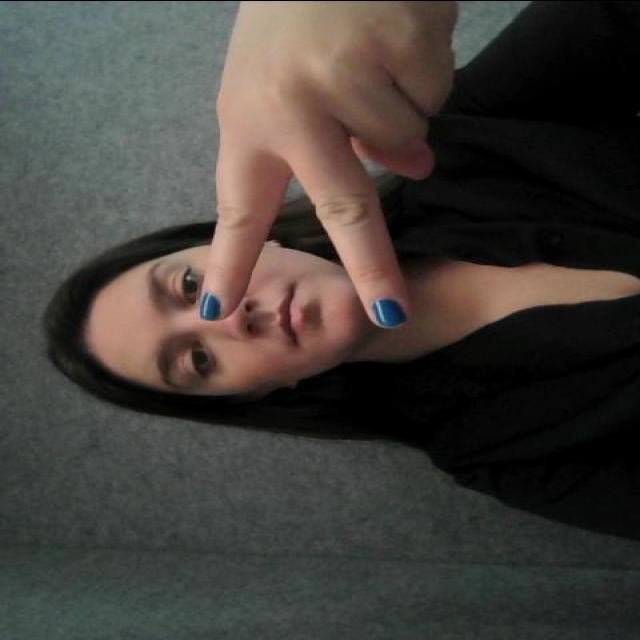Scissors: (178, 16, 418, 339)
